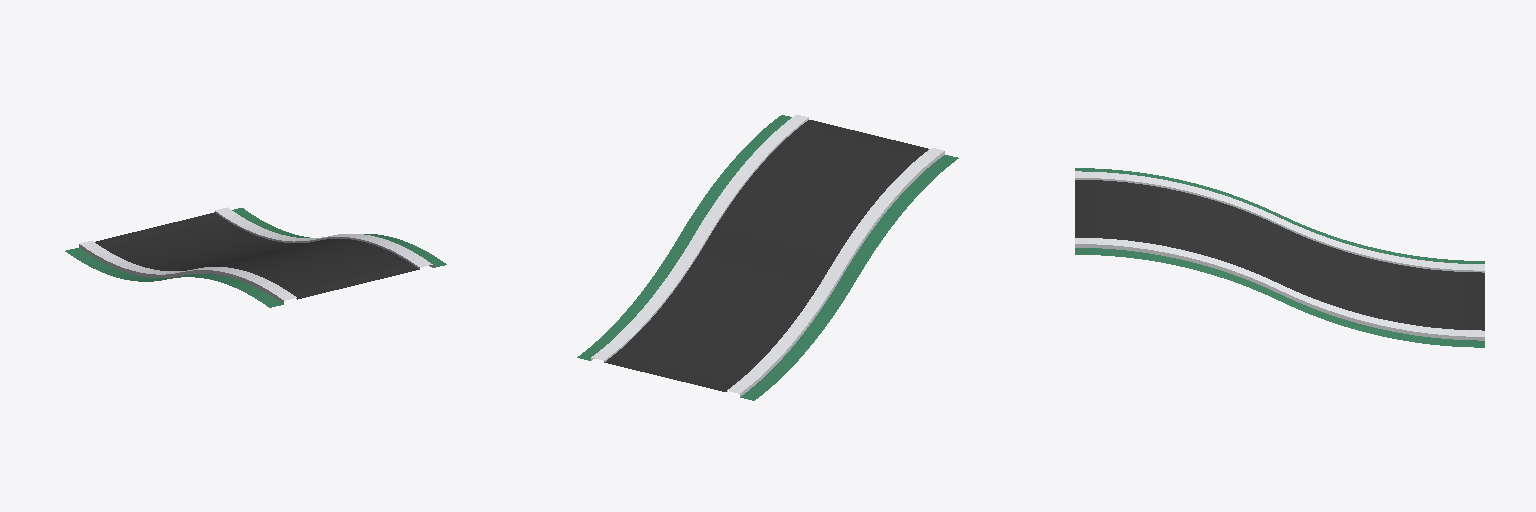
Rendered from roadRampLongCurved.obj.
3 renders of one model, left to right at view 1: azimuth 30°, elevation 25°; view 2: azimuth 150°, elevation 25°; view 3: azimuth 270°, elevation 25°, orthographic.
Visible parts, largest first — view 1: roadRampLongCurved; view 2: roadRampLongCurved; view 3: roadRampLongCurved.
Part boxes in pixels (bbox=[...]): roadRampLongCurved: bbox=[65, 207, 446, 307]; roadRampLongCurved: bbox=[577, 114, 958, 400]; roadRampLongCurved: bbox=[1075, 168, 1484, 347].
Bounding box in the file's own units: 1 × 0.52 × 2.